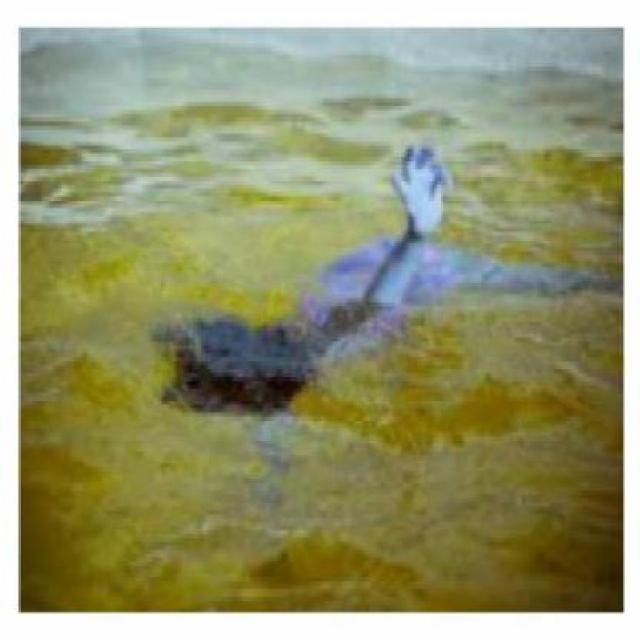drowning: (158, 151, 447, 414)
